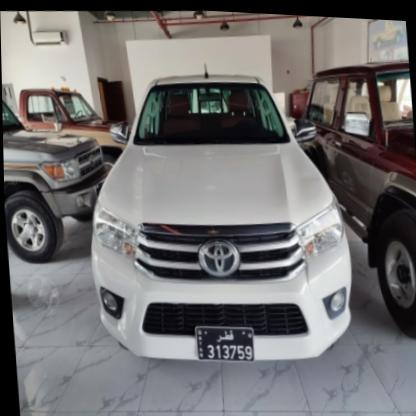np: (194, 317, 253, 362)
